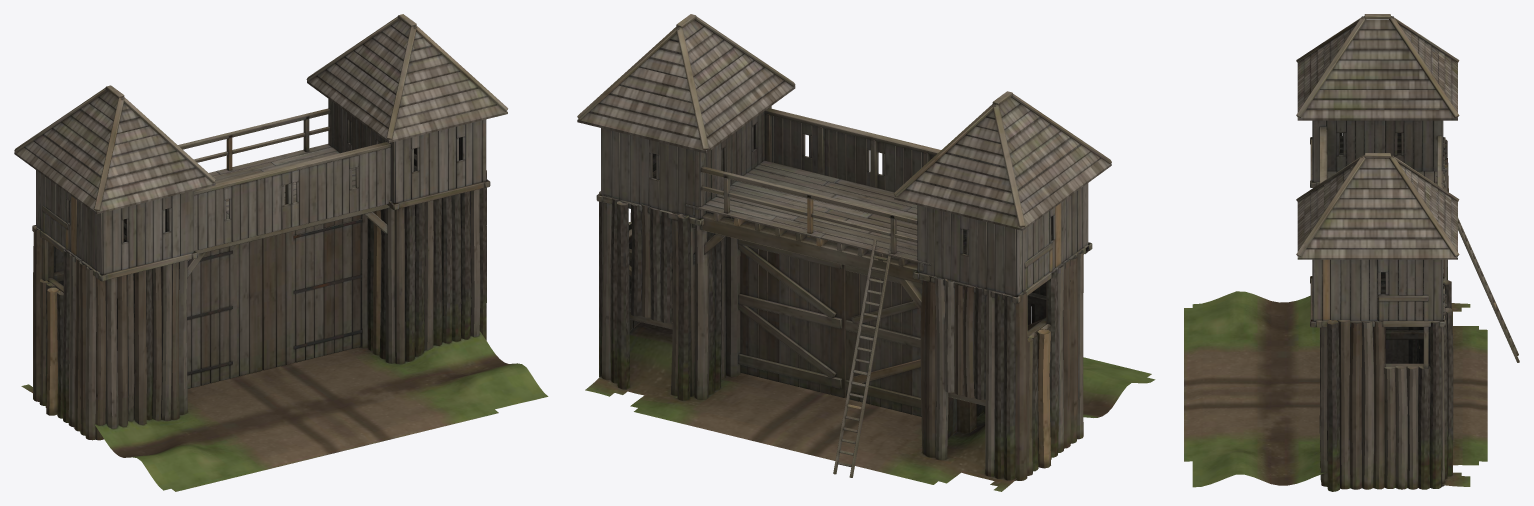
Rendered from gate.glb.
The picture shows the model from 3 angles, left to right: view 1: azimuth 30°, elevation 25°; view 2: azimuth 150°, elevation 25°; view 3: azimuth 270°, elevation 25°; orthographic projection. The views are drawn at different scales.
Parts seen in each view (by area): view 1: gate_LOD0; view 2: gate_LOD0; view 3: gate_LOD0.
Part boxes in pixels (bbox=[...]): gate_LOD0: bbox=[14, 14, 548, 491]; gate_LOD0: bbox=[577, 14, 1155, 491]; gate_LOD0: bbox=[1184, 14, 1519, 491].
Size of what is drawn, in the model's own units: 12.89 by 9.51 by 9.29.
Materials: 1 (1 with a texture image).
